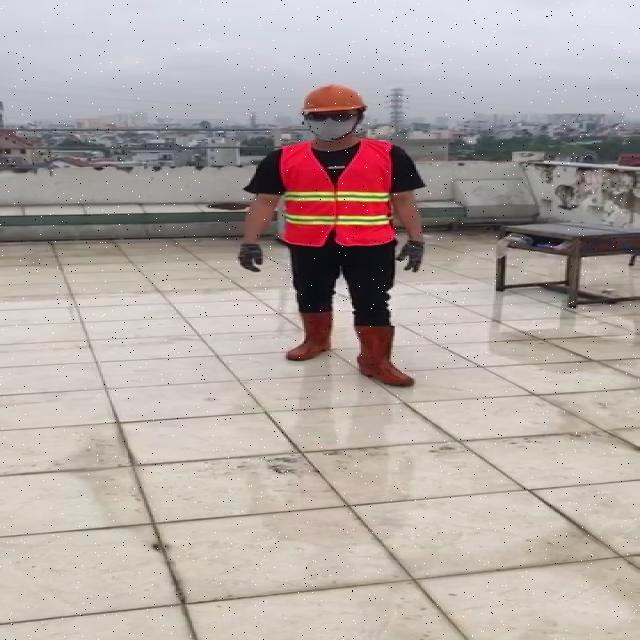Hard_hat: (294, 82, 370, 122)
Person: (233, 79, 430, 469)
Vest: (275, 138, 394, 251)
